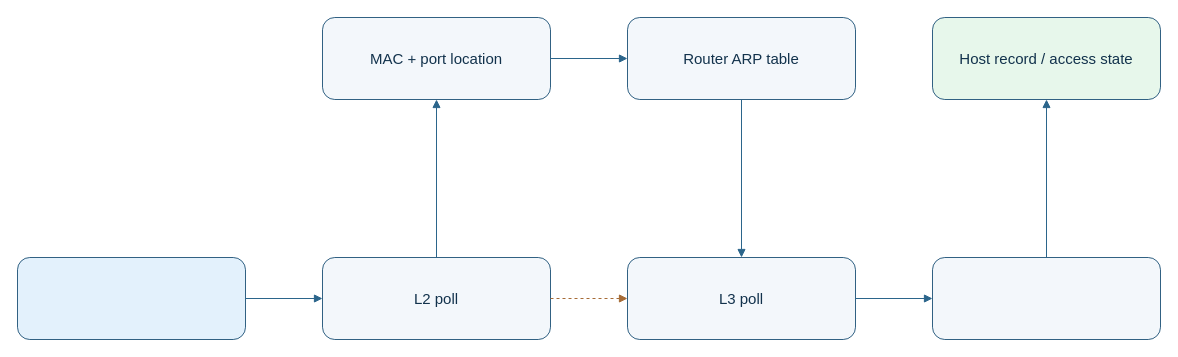
Some shapes in this 1178 by 357 pixel diagram are drawn without their labels. Here are the shapes that lost their labels. From the top down, the centre of each, then its label:
At (x=131, y=298): "Switch MAC/FDB".
At (x=1046, y=298): "IP-to-MAC join".
